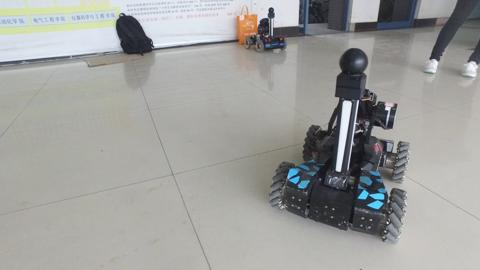bag: (114, 11, 155, 58), (236, 3, 259, 44)
chariot: (268, 46, 411, 243), (243, 6, 287, 53)
